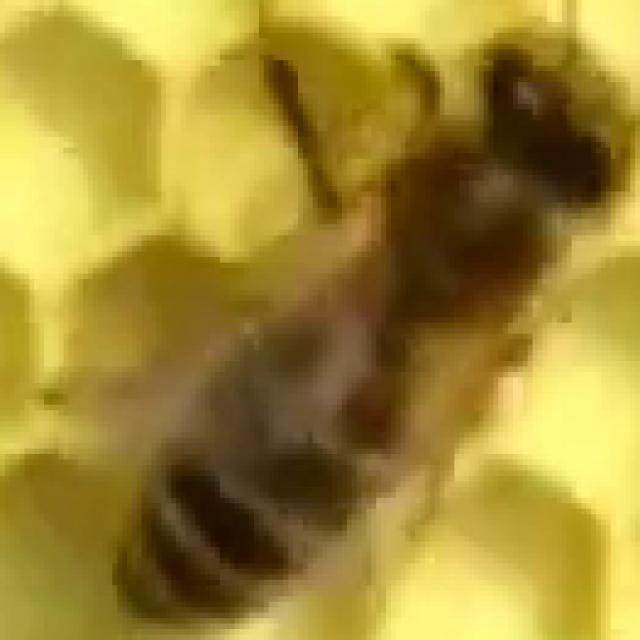honeybee: (160, 36, 586, 575)
